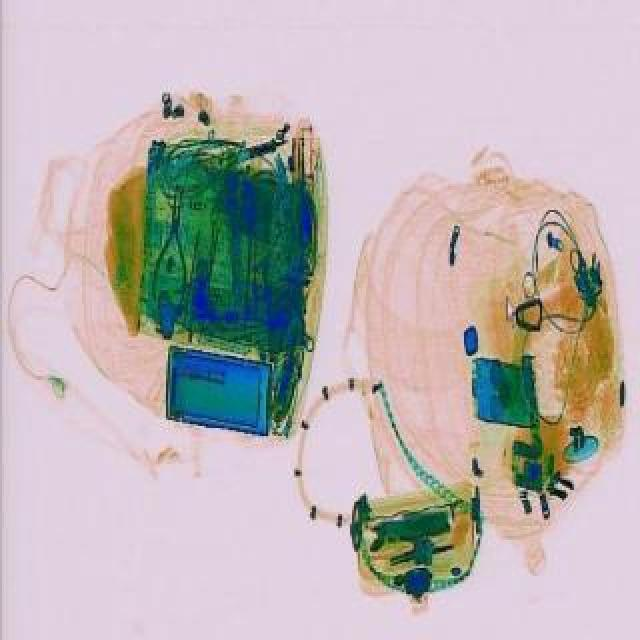wrench: (150, 178, 196, 308)
